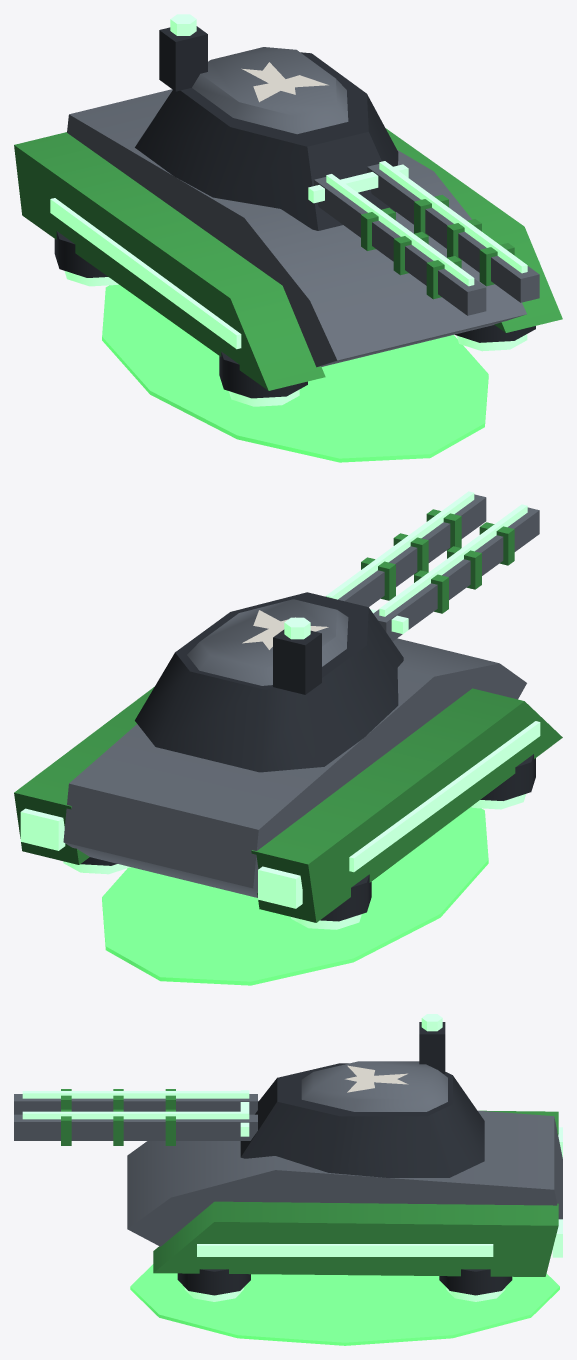
The model's file is assault_dl8_green.glb.
3 views of the same model, one above another, from view 1: azimuth 30°, elevation 25°; view 2: azimuth 150°, elevation 25°; view 3: azimuth 270°, elevation 25° (orthographic). The views are drawn at different scales.
Parts seen in each view (by area): view 1: assault_dl8_green; view 2: assault_dl8_green; view 3: assault_dl8_green.
Boxes of the visible parts, bbox=[...] form: assault_dl8_green: bbox=[14, 14, 562, 462]; assault_dl8_green: bbox=[14, 491, 562, 985]; assault_dl8_green: bbox=[14, 1014, 562, 1345].
Size of the model in its own units: 0.324 by 0.316 by 0.63.
3 materials, 1 textured.
